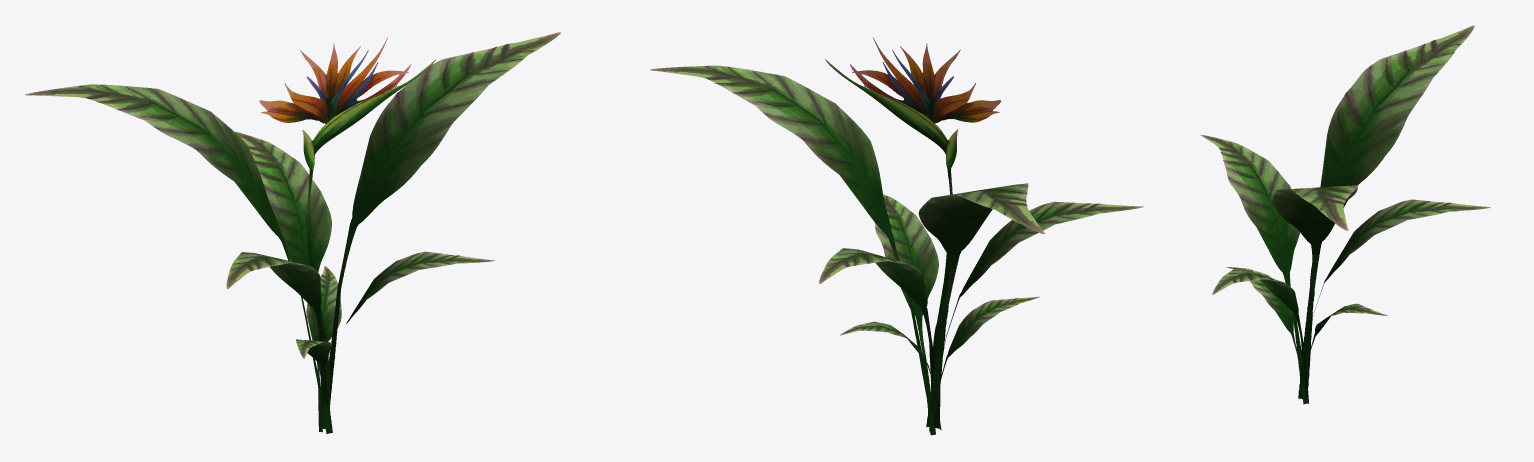
File: ParadiceBirdFlower.fbx
The picture shows the model from 3 angles, left to right: view 1: azimuth 30°, elevation 25°; view 2: azimuth 150°, elevation 25°; view 3: azimuth 270°, elevation 25°; orthographic projection. The views are drawn at different scales.
Visible parts, largest first — view 1: ParadiceBirdFlower2; view 2: ParadiceBirdFlower2; view 3: ParadiceBirdFlower2.
Boxes of the visible parts, x1=… form: ParadiceBirdFlower2: x1=25, y1=32, x2=560, y2=433; ParadiceBirdFlower2: x1=650, y1=37, x2=1143, y2=435; ParadiceBirdFlower2: x1=1200, y1=25, x2=1490, y2=404.
Bounding box in the file's own units: 0.4162 × 0.3105 × 0.2734.
Materials: 1 (1 with a texture image).
